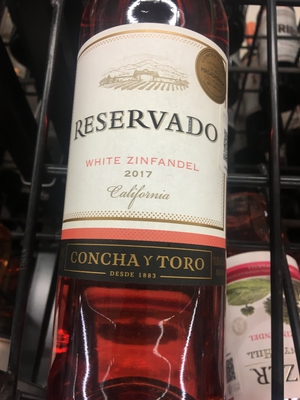reservado white zinfandel: (61, 10, 226, 400)
